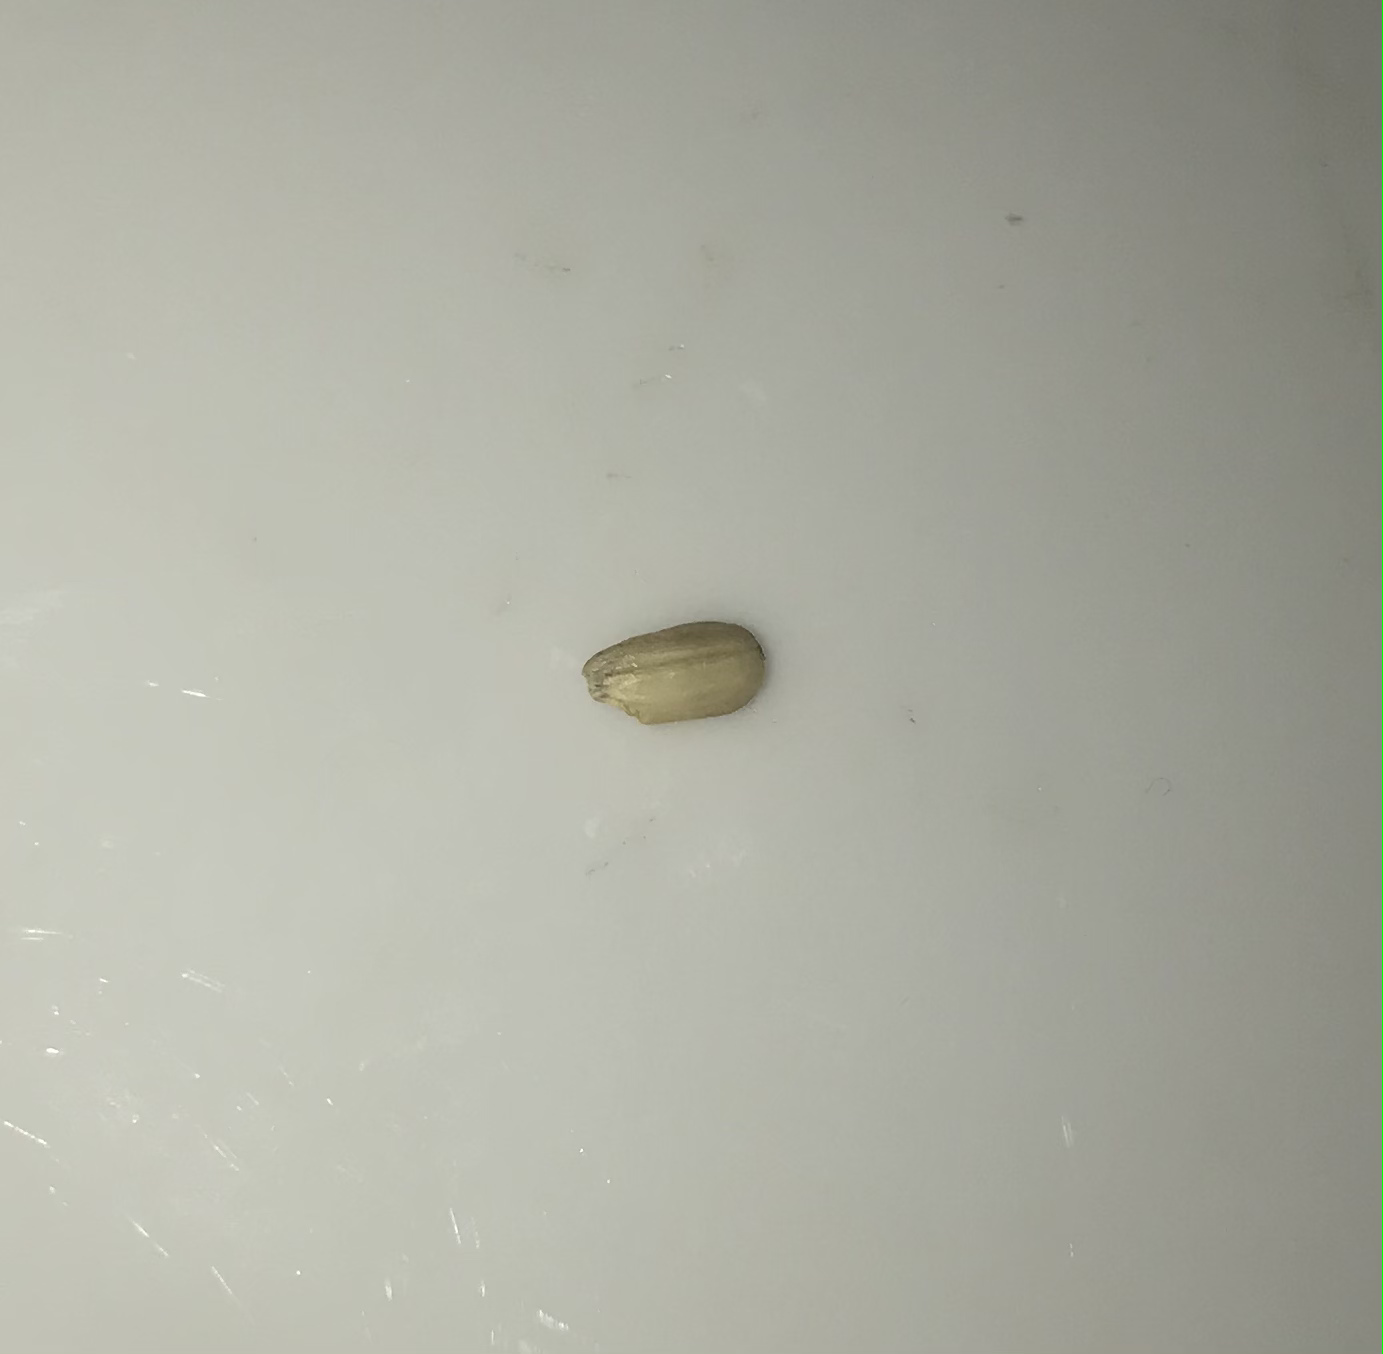Gao Lut Bac: (576, 606, 786, 735)
